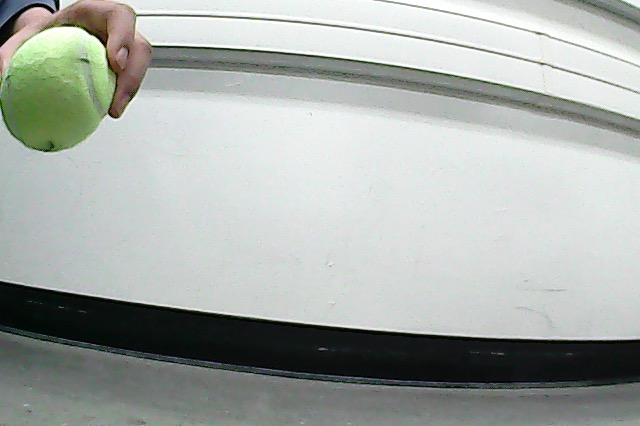ball: (1, 27, 117, 154)
